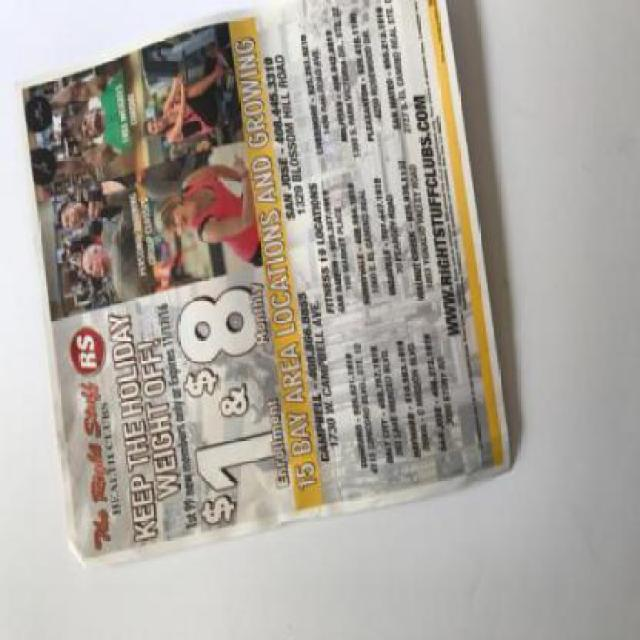PAPER: (10, 0, 508, 565)
